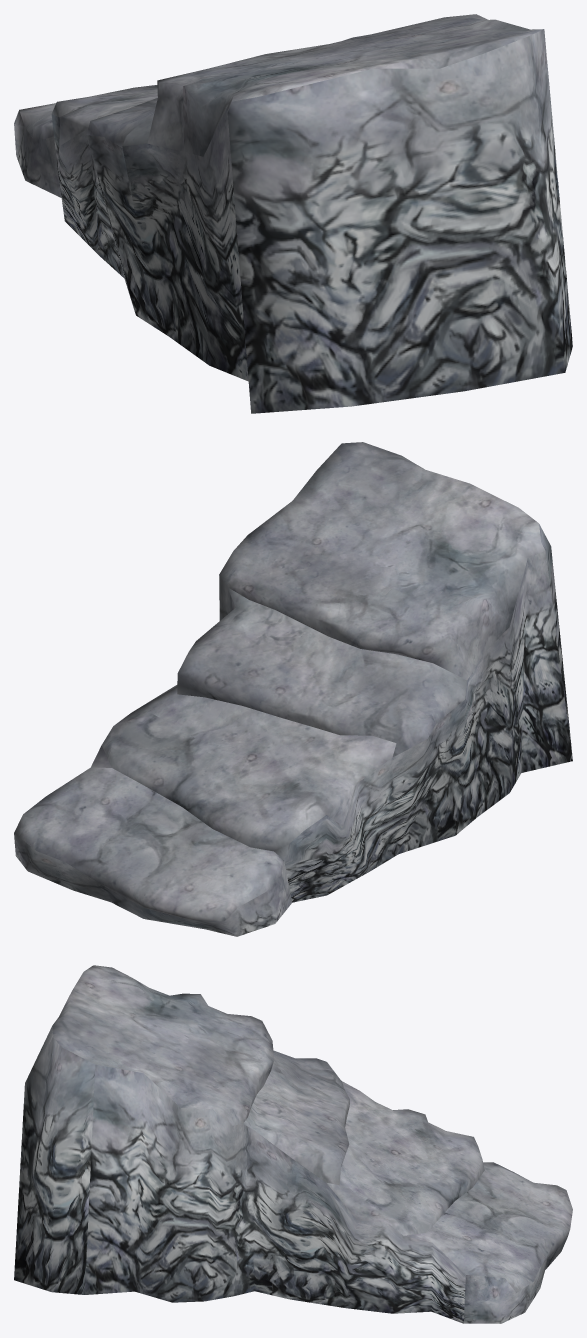
Rendered from STR_StairCave.FBX.
3 views of the same model, one above another, from view 1: azimuth 30°, elevation 25°; view 2: azimuth 150°, elevation 25°; view 3: azimuth 270°, elevation 25° (orthographic). The views are drawn at different scales.
Visible parts, largest first — view 1: STR_StairCave; view 2: STR_StairCave; view 3: STR_StairCave.
Part boxes in pixels (x1,y1,x2,y2): STR_StairCave: (14, 14, 572, 413); STR_StairCave: (14, 442, 572, 936); STR_StairCave: (14, 965, 572, 1323).
Size of the model in its own units: 600 by 464 by 983.
